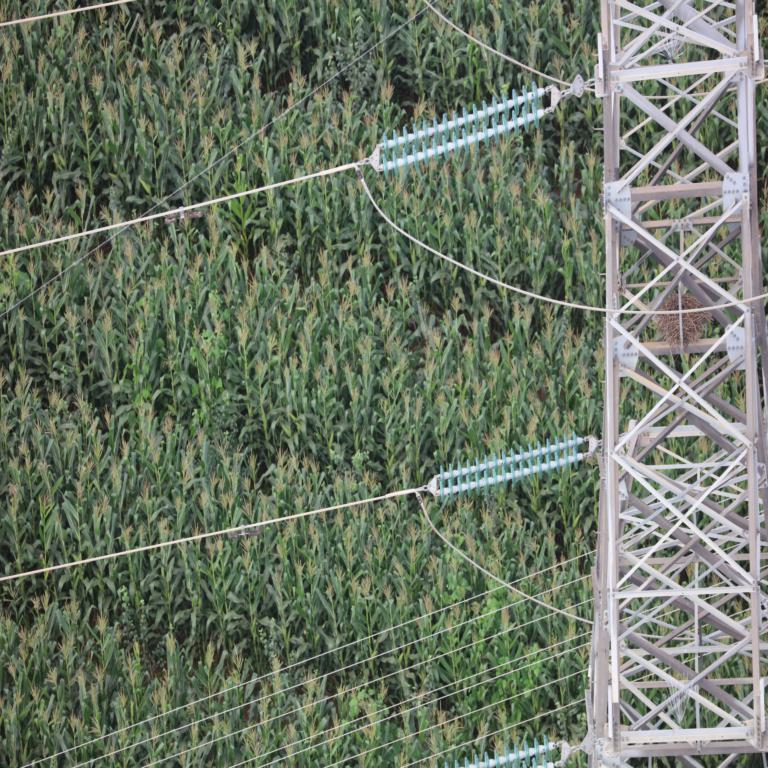nest: (657, 296, 706, 350)
